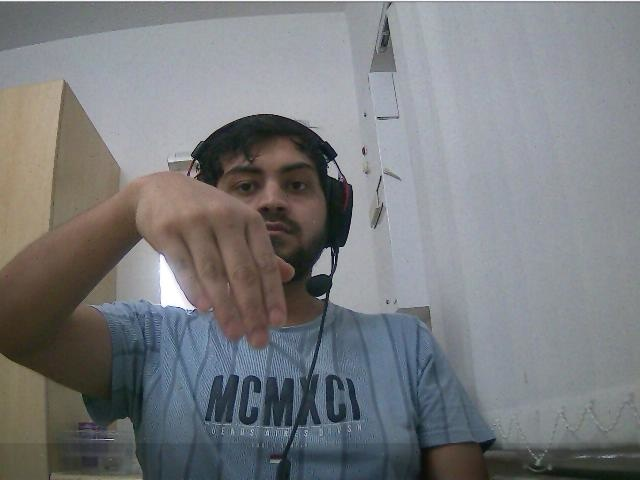down: (137, 162, 285, 350)
